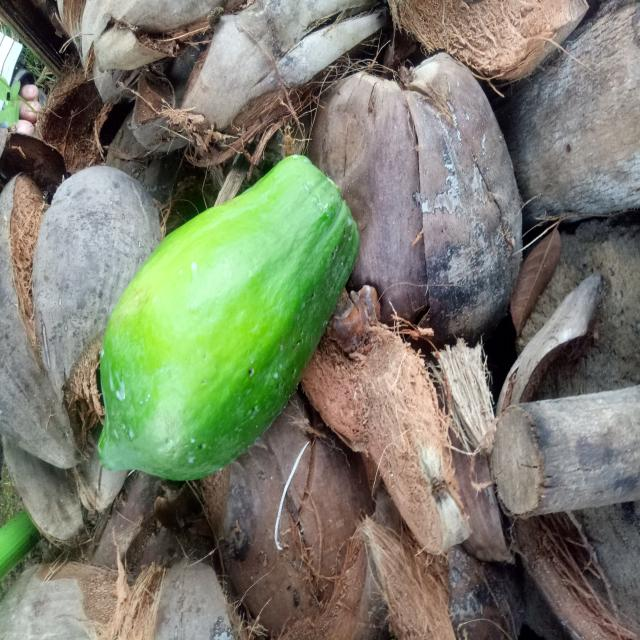Pepaya unrippen: (82, 154, 364, 486)
